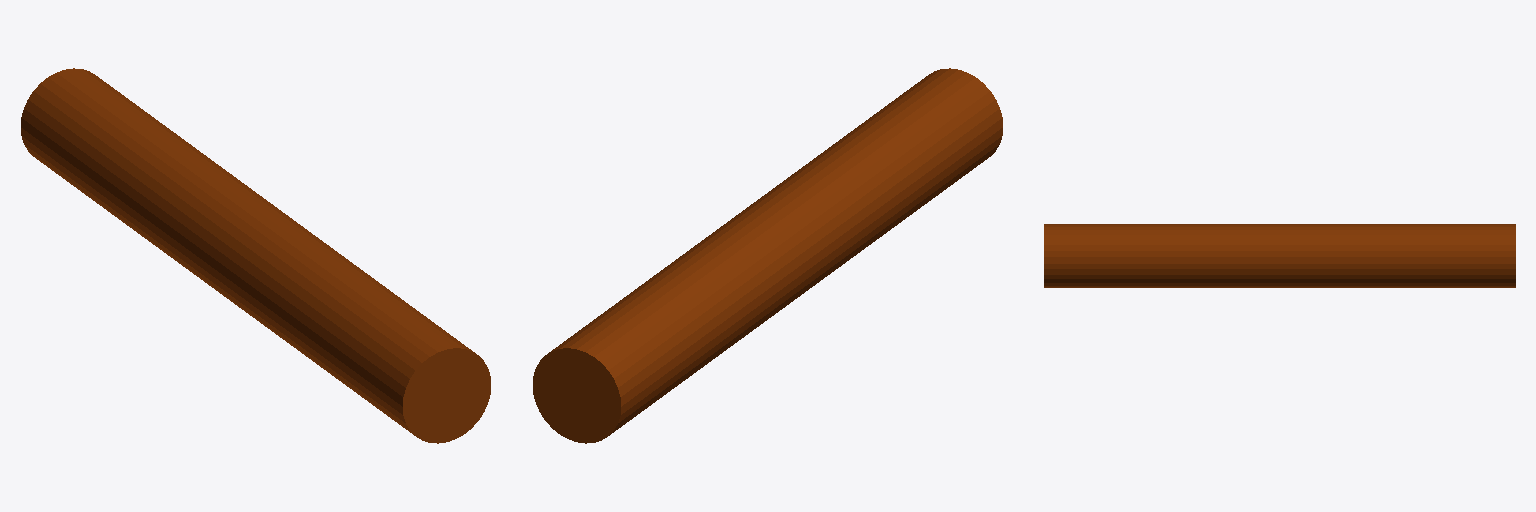
robot.urdf — cylinder:
<?xml version="1.0" ?>
<!-- =================================================================================== -->
<!-- |    This document was autogenerated by xacro from cylinder.xacro                 | -->
<!-- |    EDITING THIS FILE BY HAND IS NOT RECOMMENDED                                 | -->
<!-- =================================================================================== -->
<robot name="cylinder">
  <link name="world"/>
  <link name="base">
    <visual>
      <origin rpy="1.57079633 0 0" xyz="0 0 0"/>
      <geometry>
        <cylinder length="7.07106781185" radius="0.475"/>
      </geometry>
      <material name="cylinder_material">
        <color rgba="0.545 0.271 0.075 1.0"/>
        <texture filename="../textures/tree_bark.jpg"/>
      </material>
    </visual>
    <collision>
      <origin rpy="1.57079633 0 0" xyz="0 0 0"/>
      <geometry>
        <cylinder length="7.07106781185" radius="0.475"/>
      </geometry>
    </collision>
    <inertial>
      <origin rpy="0 0 0" xyz="0 0 0"/>
      <mass value="1"/>
      <inertia ixx="4.223072916648428" ixy="0.0" ixz="0.0" iyy="4.223072916648428" iyz="0.0" izz="24.999999999890573"/>
    </inertial>
  </link>
  <joint name="base_joint" type="fixed">
    <parent link="world"/>
    <child link="base"/>
    <origin rpy="0 0 0" xyz="0.0 0.0 0.0"/>
  </joint>
</robot>

--- What the picture shows (computed from the rendered views, not written in the file) ---
Views: 3 orthographic renders of the robot side by side, from view 1: azimuth 30°, elevation 25°; view 2: azimuth 150°, elevation 25°; view 3: azimuth 270°, elevation 25°.
Model cylinder with 2 links and 1 joints (1 fixed), rooted at world, posed every joint at zero.
Links seen in each view (by area): view 1: base; view 2: base; view 3: base.
Boxes of the visible links, left/top/right/bottom form: base: left=21, top=68, right=490, bottom=443; base: left=533, top=68, right=1002, bottom=443; base: left=1044, top=224, right=1515, bottom=287.
Bounding box of the posed robot: 0.95 × 7.07 × 0.95 m (x, y, z).
Geometry: primitives only (box / cylinder / sphere), no mesh files.
